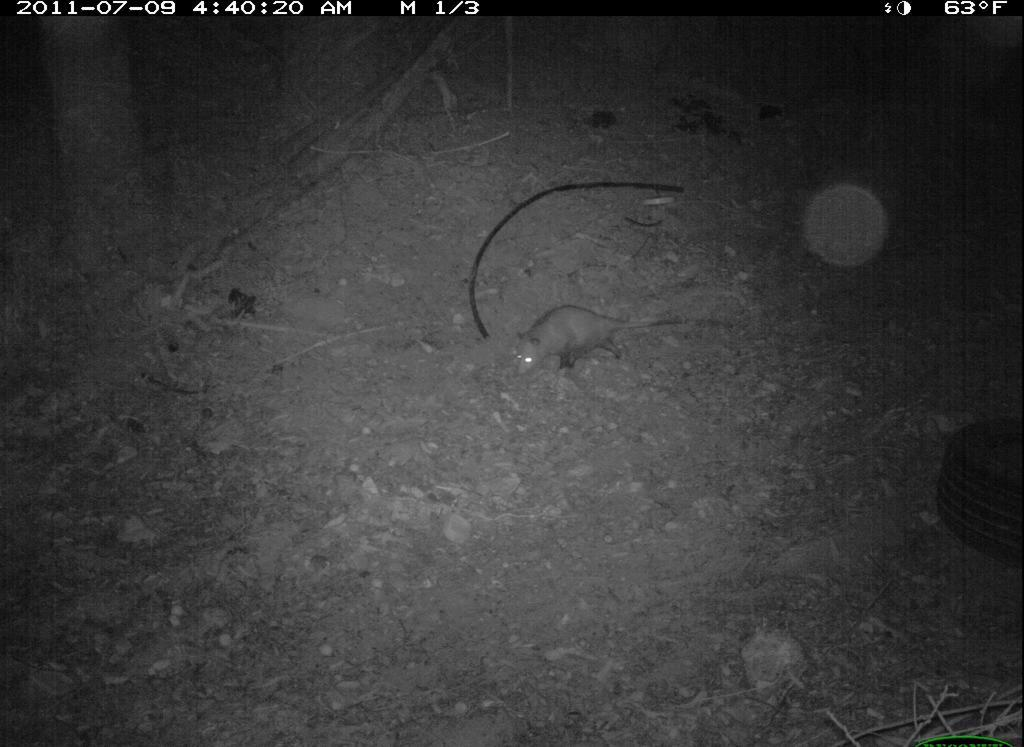opossum: (511, 303, 685, 388)
